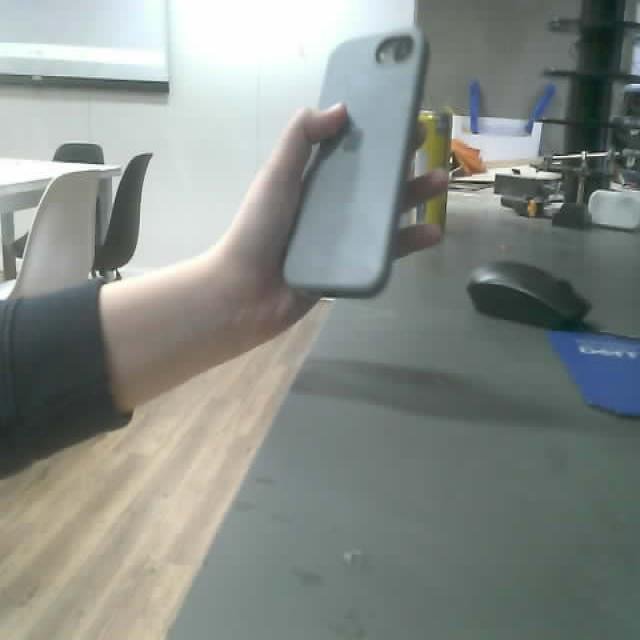phone: (283, 27, 429, 301)
